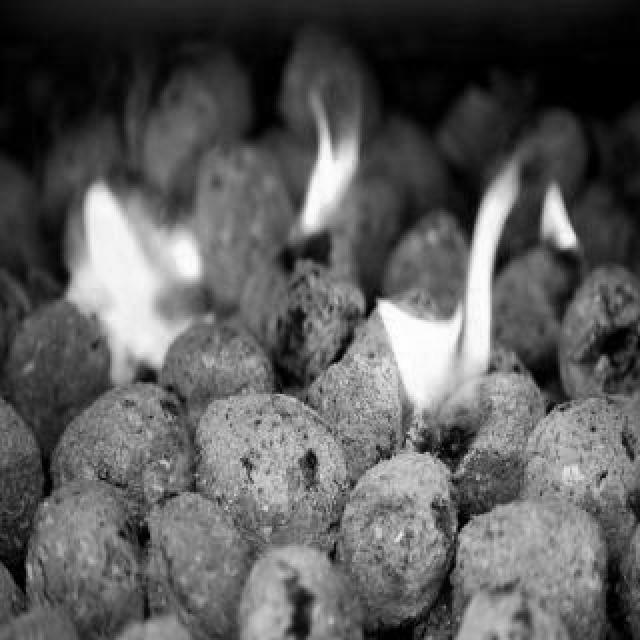Fire: (380, 152, 578, 438), (58, 174, 208, 370), (288, 84, 364, 252)
